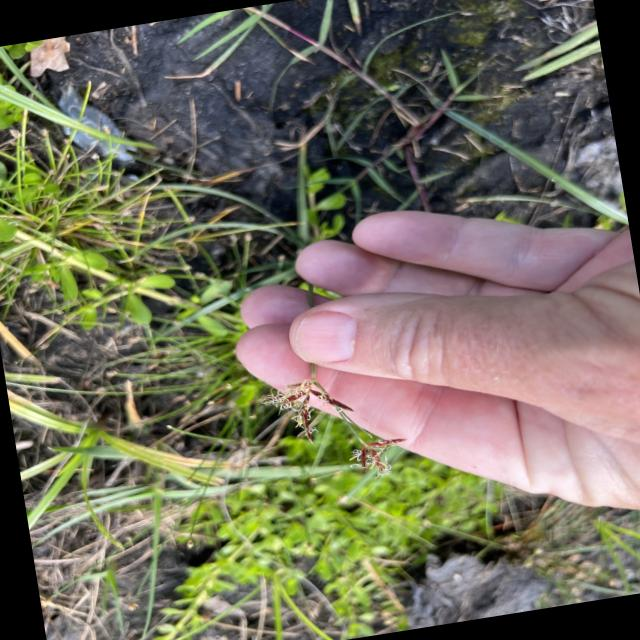cyperus: (256, 358, 406, 498)
